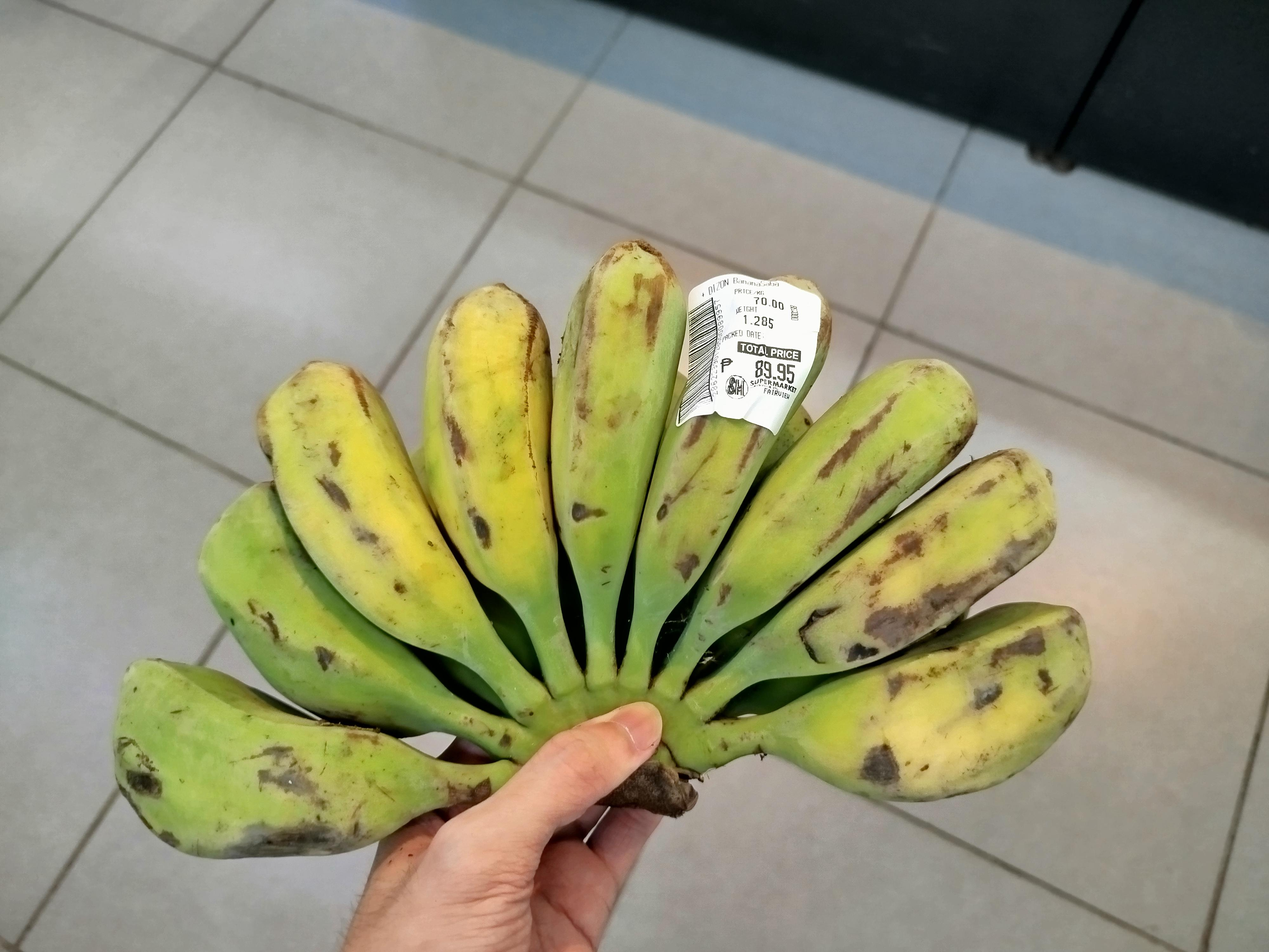underripe: (114, 239, 1090, 858)
